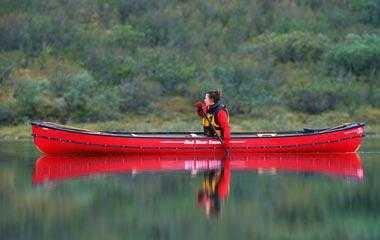kayak: (31, 120, 368, 163)
